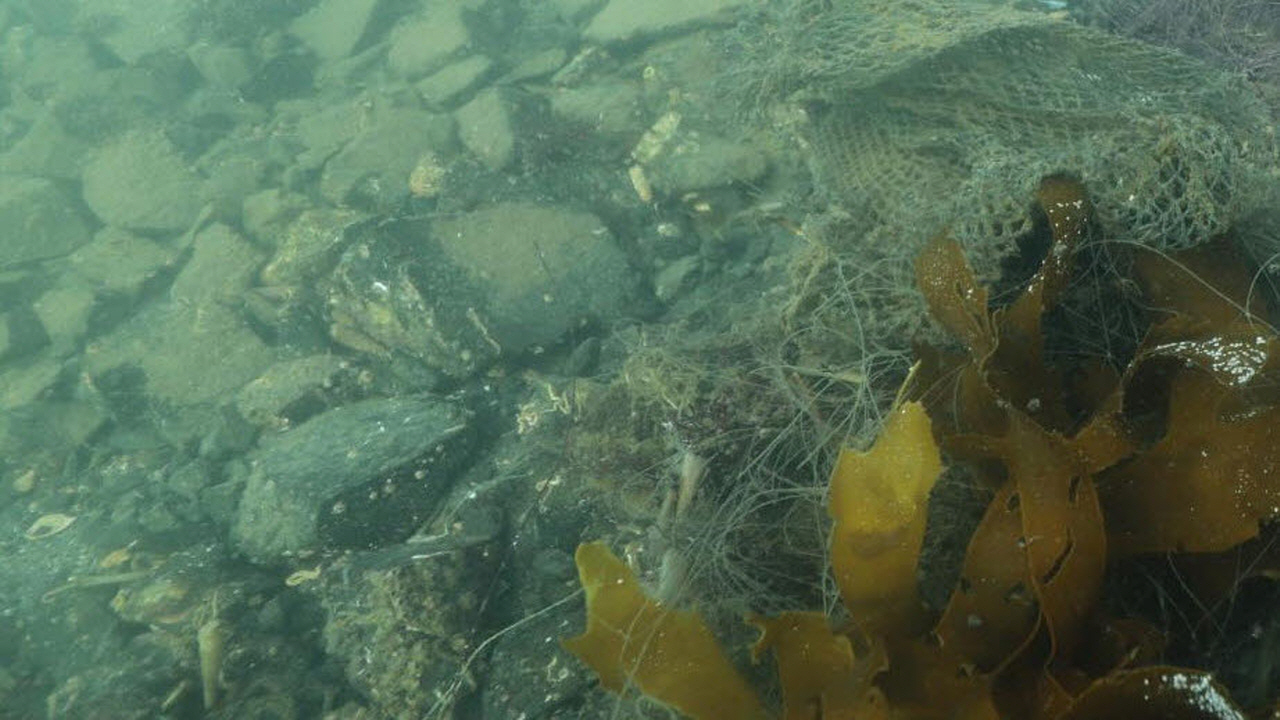fish net: (731, 0, 1280, 279)
